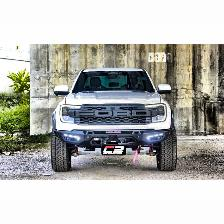NON-EV: (53, 70, 179, 174)
